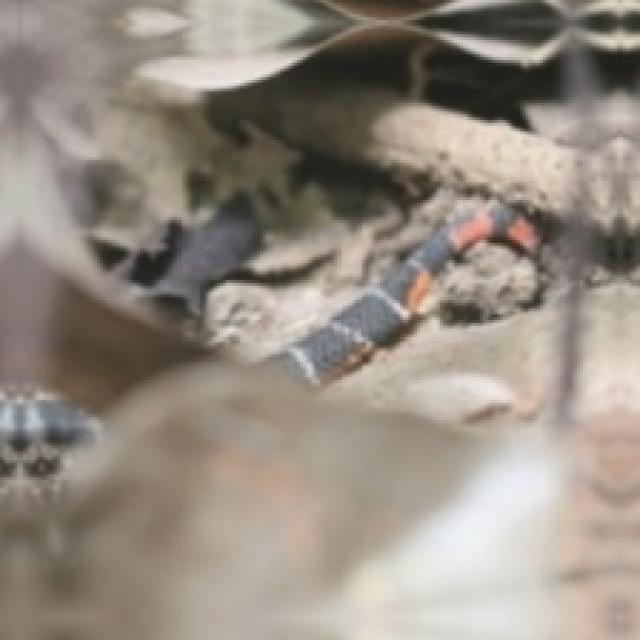barredcoral snake: (269, 203, 537, 383)
